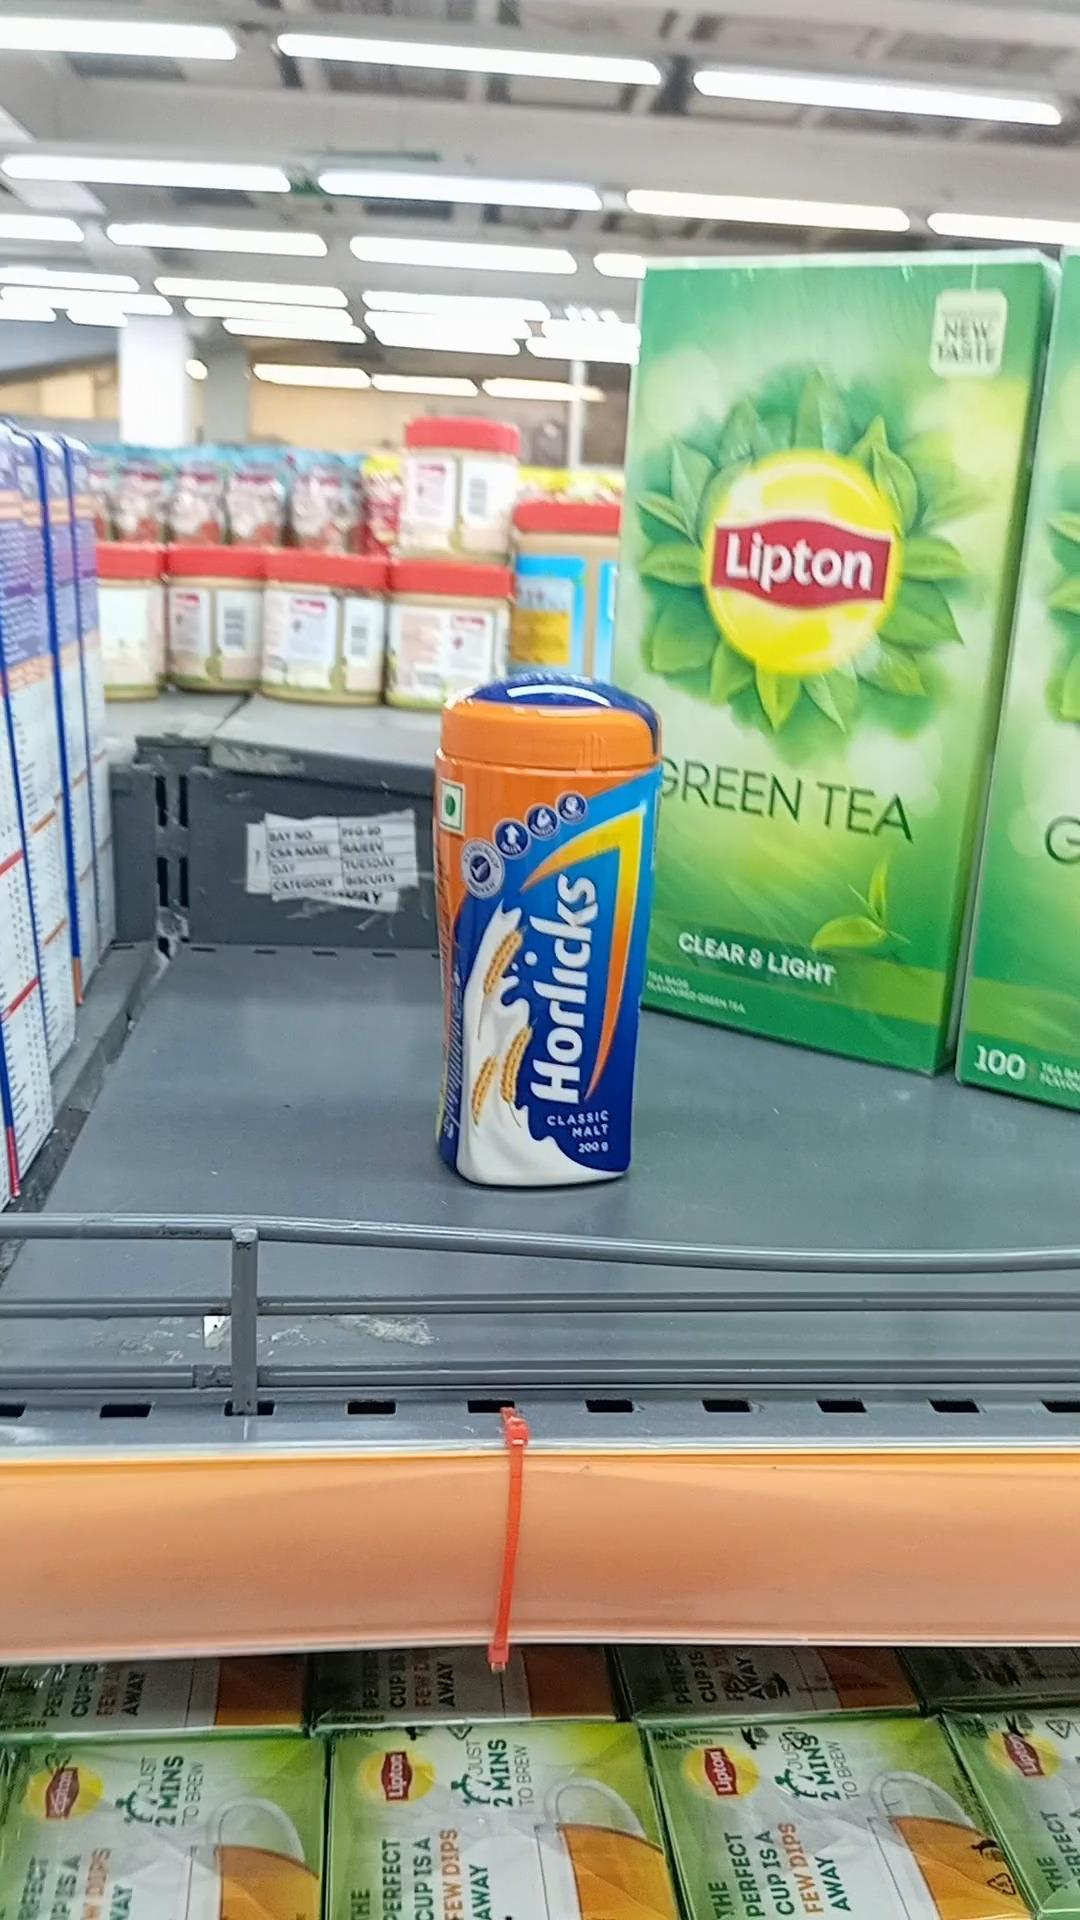HORLICK_CLASSIC_MALT_200_G_JAR: (435, 682, 662, 1188)
